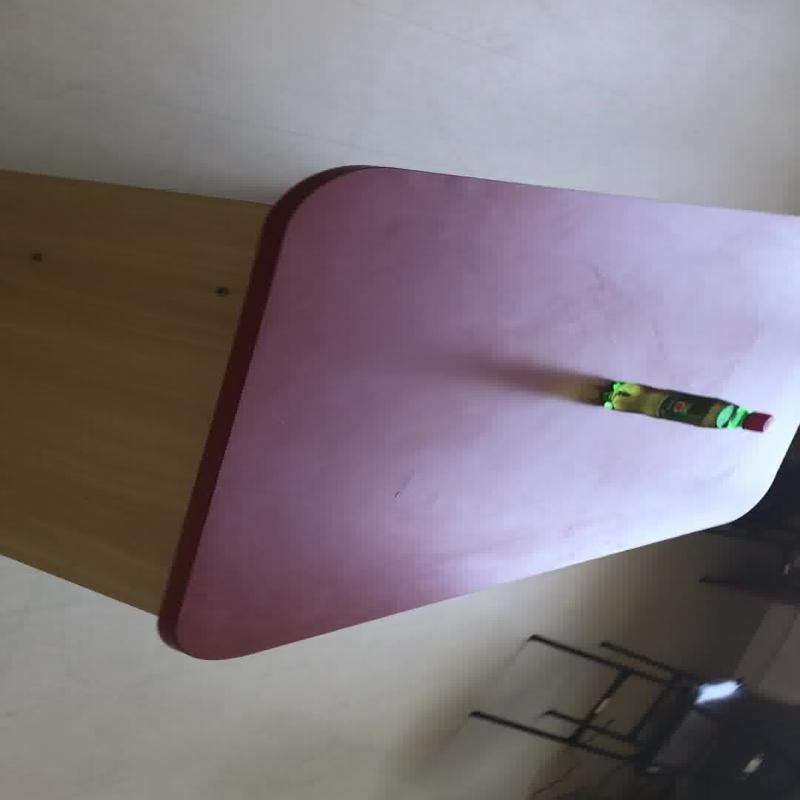guarana: (595, 379, 772, 433)
